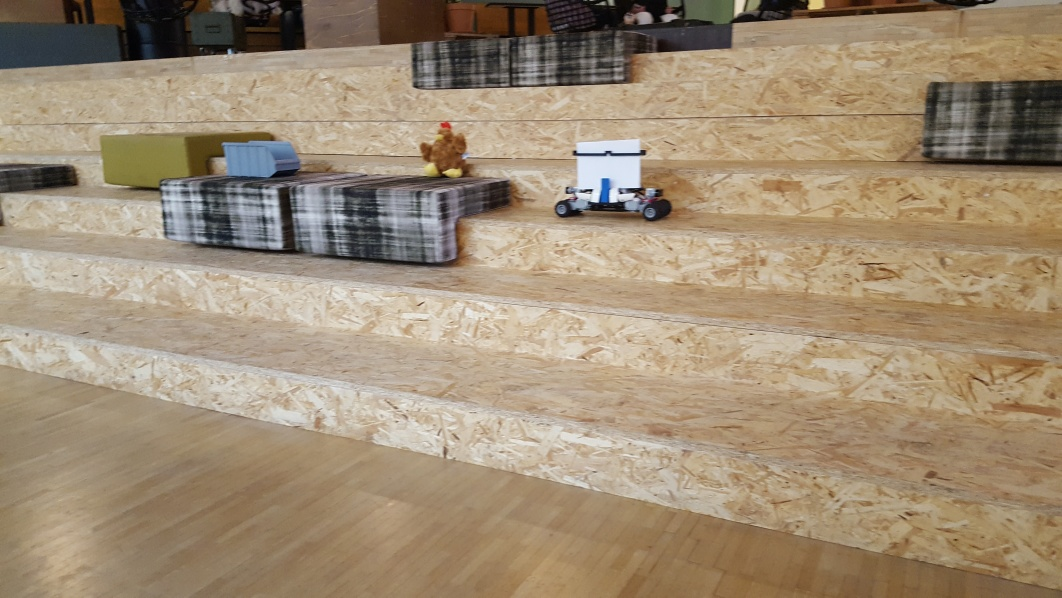beam: (598, 177, 611, 206)
chicken: (419, 122, 470, 178)
tray: (220, 137, 303, 181)
